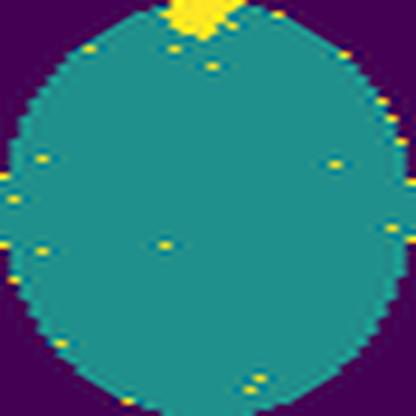Edge-Loc: (155, 0, 253, 45)
